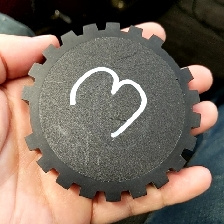gear: (19, 20, 203, 204)
missing: (146, 31, 196, 85), (20, 85, 42, 151)
